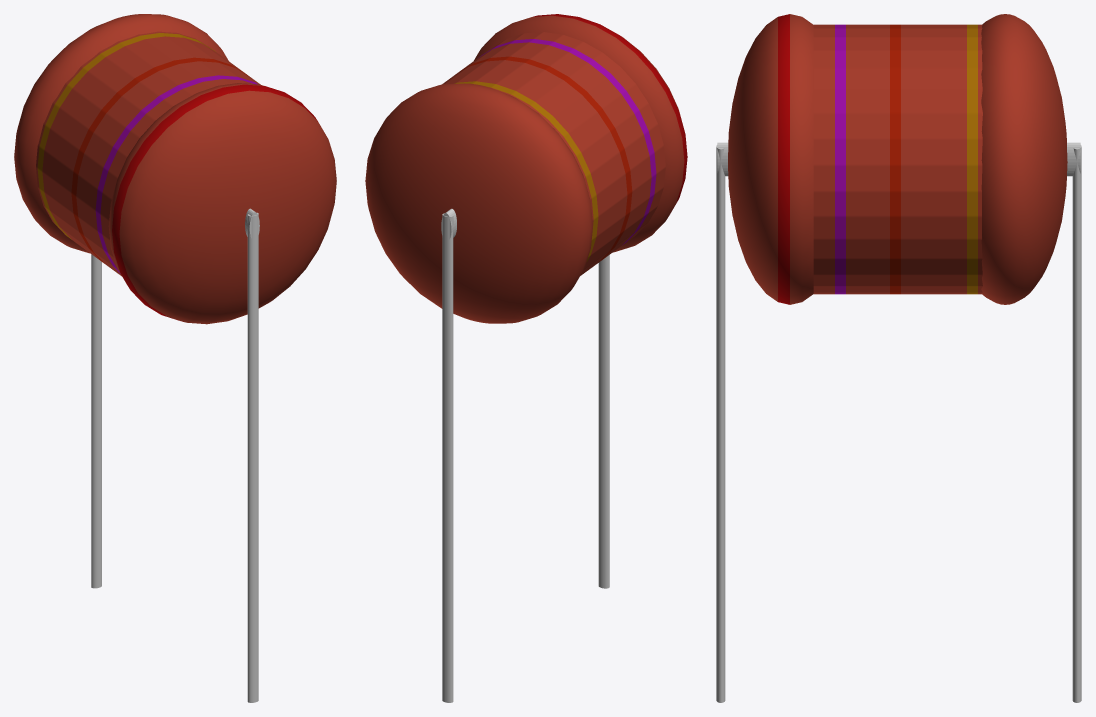
The model's file is resistor.obj.
3 views of the same model, side by side, from view 1: azimuth 30°, elevation 25°; view 2: azimuth 150°, elevation 25°; view 3: azimuth 270°, elevation 25° (orthographic). The views are drawn at different scales.
Parts seen in each view (by area): view 1: Cylinder, Cylinder.001_Cylinder.002; view 2: Cylinder, Cylinder.001_Cylinder.002; view 3: Cylinder, Cylinder.001_Cylinder.002.
Boxes of the visible parts, <box> form: Cylinder: <box>14,14,336,324</box>; Cylinder.001_Cylinder.002: <box>91,208,259,702</box>; Cylinder: <box>365,14,687,323</box>; Cylinder.001_Cylinder.002: <box>441,208,609,702</box>; Cylinder: <box>728,14,1067,304</box>; Cylinder.001_Cylinder.002: <box>716,142,1081,702</box>.
Size of the model in its own units: 2.16 by 5.5 by 2.71.
